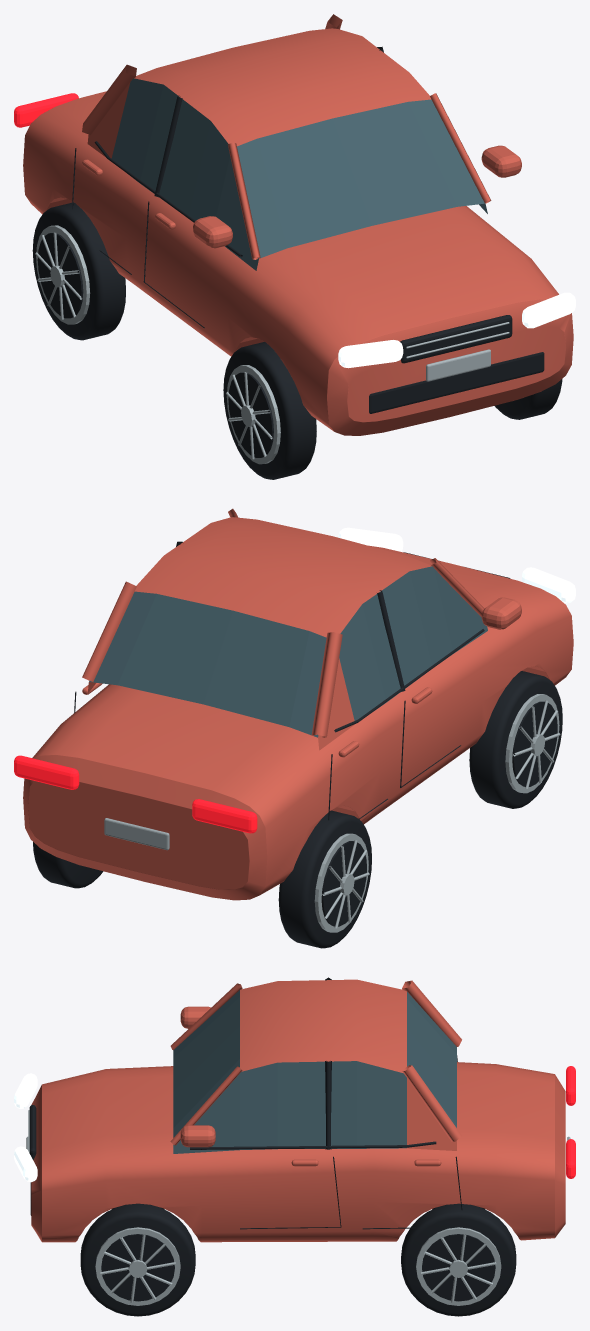
File: car-3.glb
The picture shows the model from 3 angles, top to bottom: view 1: azimuth 30°, elevation 25°; view 2: azimuth 150°, elevation 25°; view 3: azimuth 270°, elevation 25°; orthographic projection. The views are drawn at different scales.
Parts seen in each view (by area): view 1: Paint, Integrated cabin, Tyres and trim, Machined alloy, Headlight lens, Rear LED; view 2: Paint, Integrated cabin, Tyres and trim, Machined alloy, Rear LED, Headlight lens; view 3: Paint, Integrated cabin, Tyres and trim, Machined alloy, Headlight lens, Rear LED.
Boxes of the visible parts, box(x1,y1,x2,y2) form: Paint: box(23, 14, 573, 435); Integrated cabin: box(87, 28, 487, 270); Tyres and trim: box(32, 46, 562, 479); Machined alloy: box(35, 225, 509, 464); Headlight lens: box(338, 292, 575, 368); Rear LED: box(14, 93, 78, 127); Paint: box(23, 508, 573, 900); Integrated cabin: box(87, 517, 487, 750); Tyres and trim: box(33, 541, 562, 948); Machined alloy: box(104, 694, 560, 932); Rear LED: box(14, 755, 257, 833); Headlight lens: box(338, 527, 575, 603); Paint: box(31, 980, 565, 1242); Integrated cabin: box(173, 979, 456, 1153); Tyres and trim: box(29, 977, 516, 1316); Machined alloy: box(26, 1110, 570, 1305); Headlight lens: box(14, 1073, 37, 1182); Rear LED: box(566, 1066, 575, 1178).
Size of the model in its own units: 0.366 by 0.325 by 0.673.
